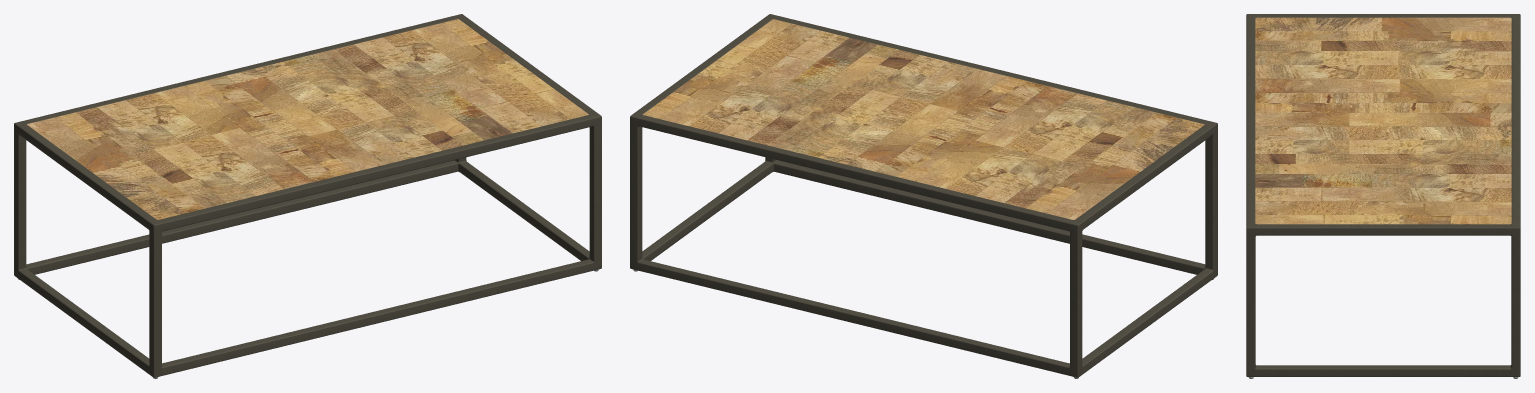
File: abo-B07QD6V6N8.glb
The picture shows the model from 3 angles, left to right: view 1: azimuth 30°, elevation 25°; view 2: azimuth 150°, elevation 25°; view 3: azimuth 270°, elevation 25°; orthographic projection. The views are drawn at different scales.
Size of the model in its own units: 1.2 by 0.398 by 0.649.
Materials: 1 (1 with a texture image).
